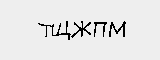А: (8, 16, 29, 38)
Г: (100, 14, 113, 35), (129, 18, 140, 34)
Д: (112, 15, 132, 38)
Л: (29, 10, 63, 41)
Ө: (67, 13, 102, 41)
